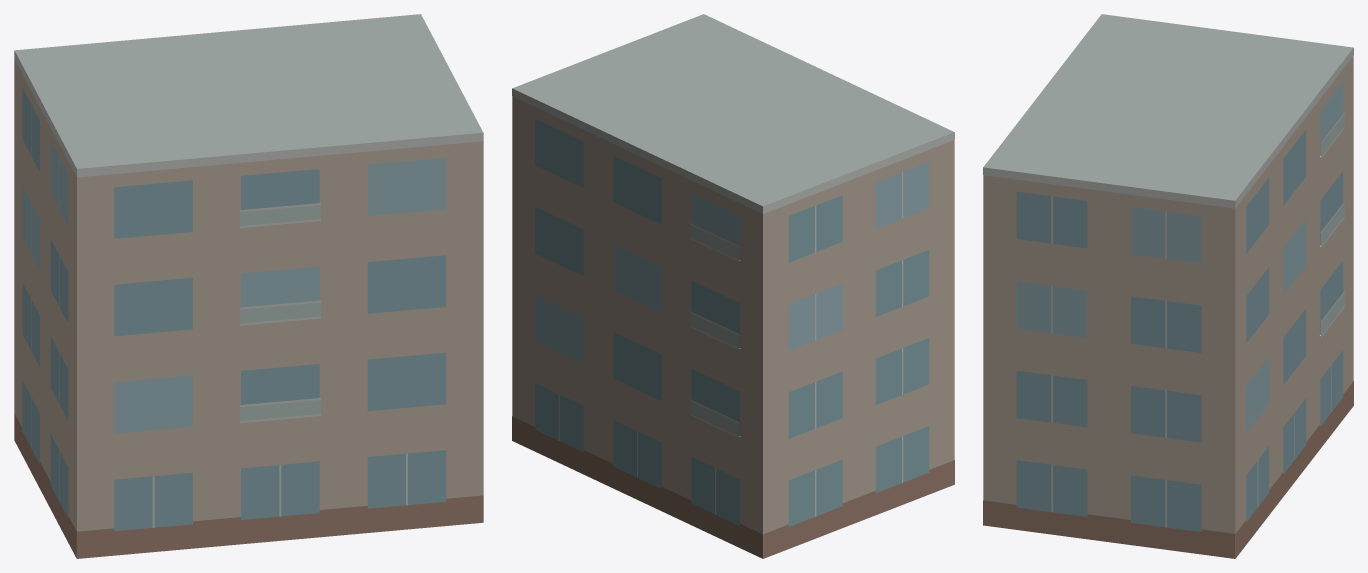
File: survey-upis-33035988.glb
3 renders of one model, left to right at view 1: azimuth 30°, elevation 25°; view 2: azimuth 150°, elevation 25°; view 3: azimuth 270°, elevation 25°, orthographic. The views are drawn at different scales.
Visible parts, largest first — view 1: survey-upis-33035988.tmp; view 2: survey-upis-33035988.tmp; view 3: survey-upis-33035988.tmp.
Part boxes in pixels (bbox=[...]): survey-upis-33035988.tmp: bbox=[14, 14, 483, 558]; survey-upis-33035988.tmp: bbox=[512, 14, 954, 558]; survey-upis-33035988.tmp: bbox=[983, 14, 1353, 558].
Size of the model in its own units: 12.54 by 11.2 by 10.52.
